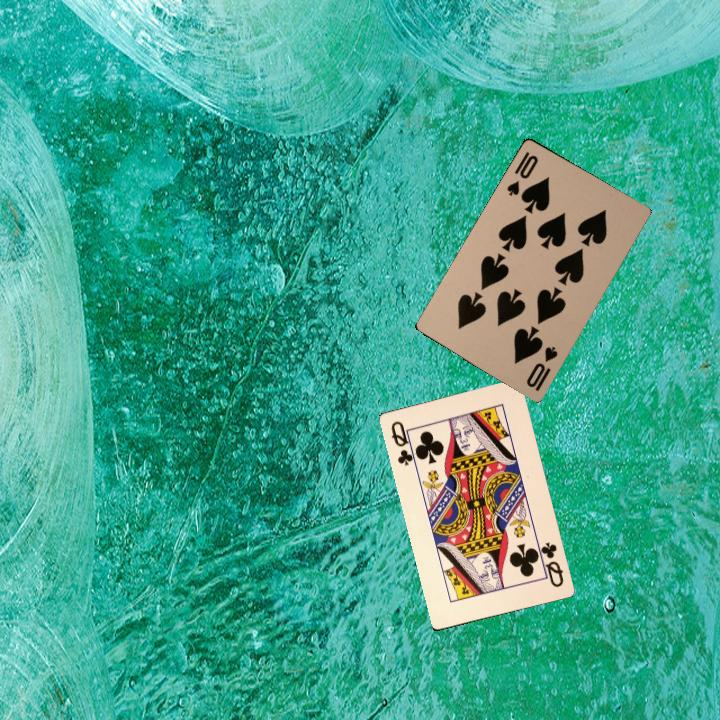10s: (522, 342, 560, 394), (503, 147, 541, 198)
Qc: (533, 538, 566, 590), (387, 417, 419, 468)
